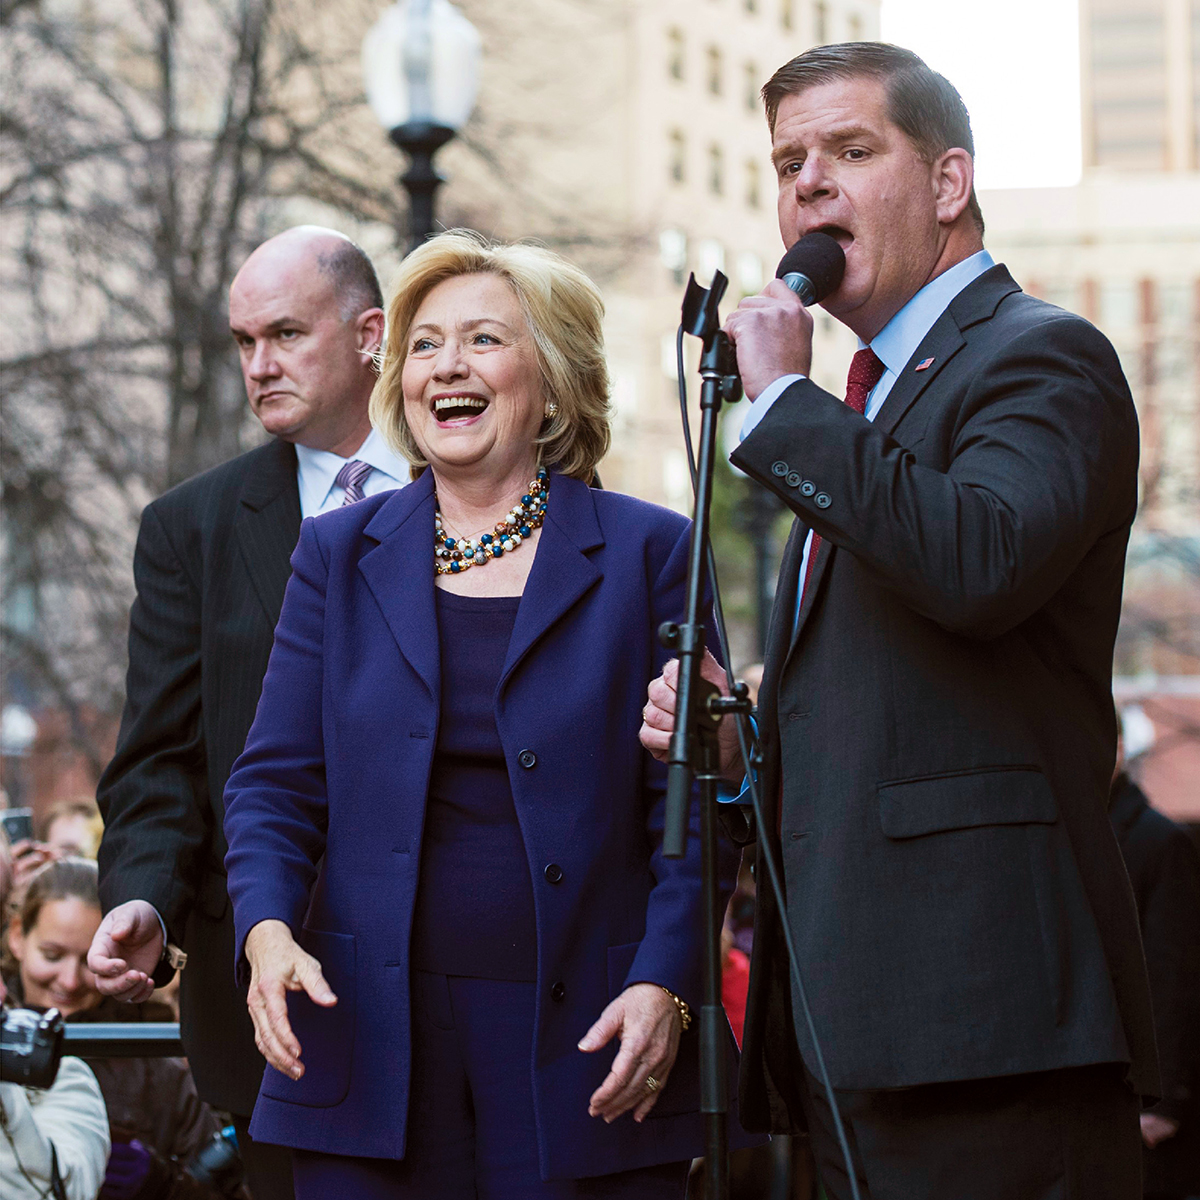Person: (676, 58, 1100, 1164), (364, 217, 664, 1200)
